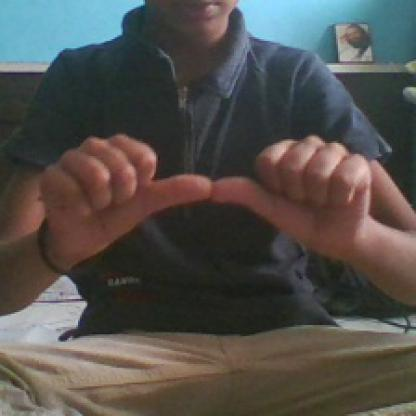A: (40, 125, 380, 263)
